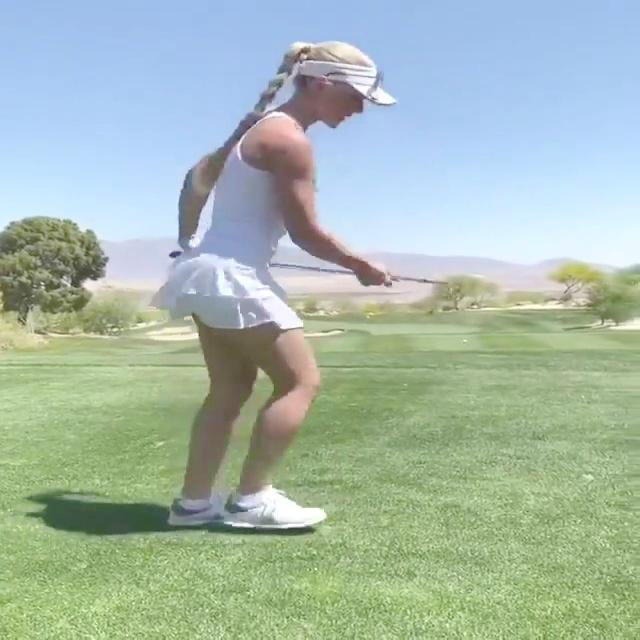golf ball: (463, 339, 467, 342)
golf club-handle: (167, 249, 459, 301)
golf club-head: (445, 283, 459, 301)
